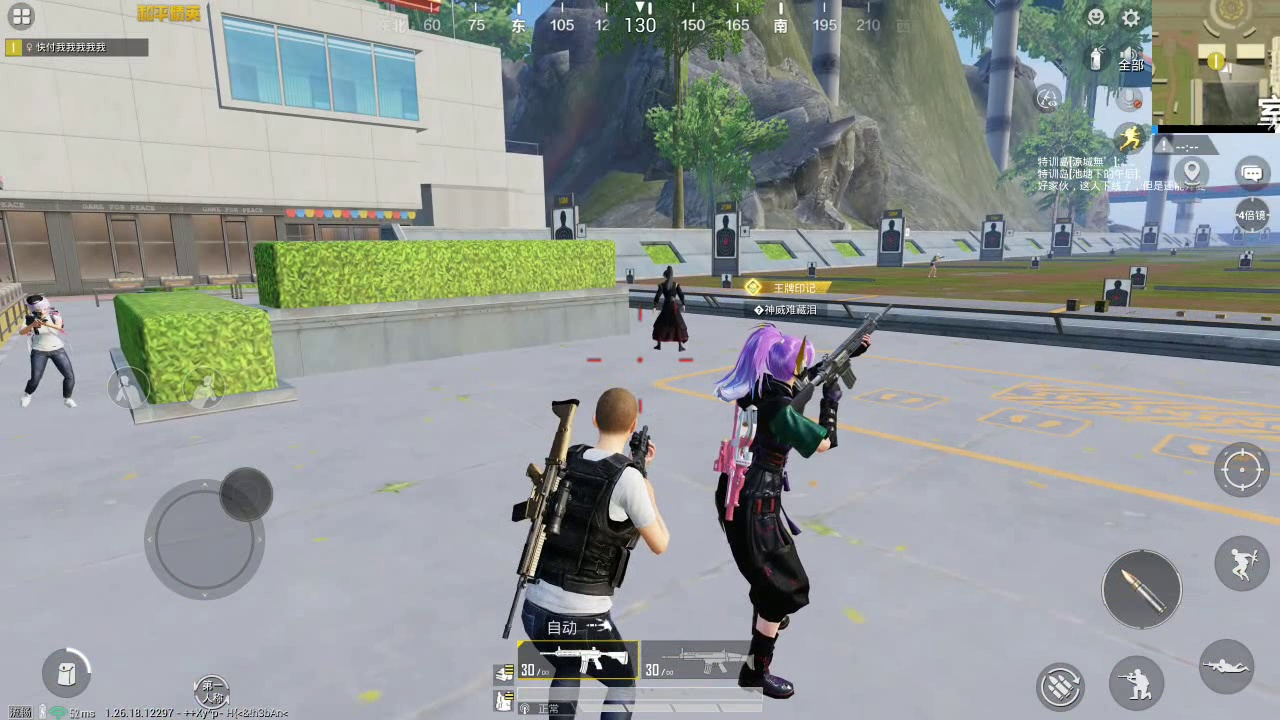enemy: (720, 324, 842, 698), (20, 293, 82, 410), (652, 266, 692, 355)
